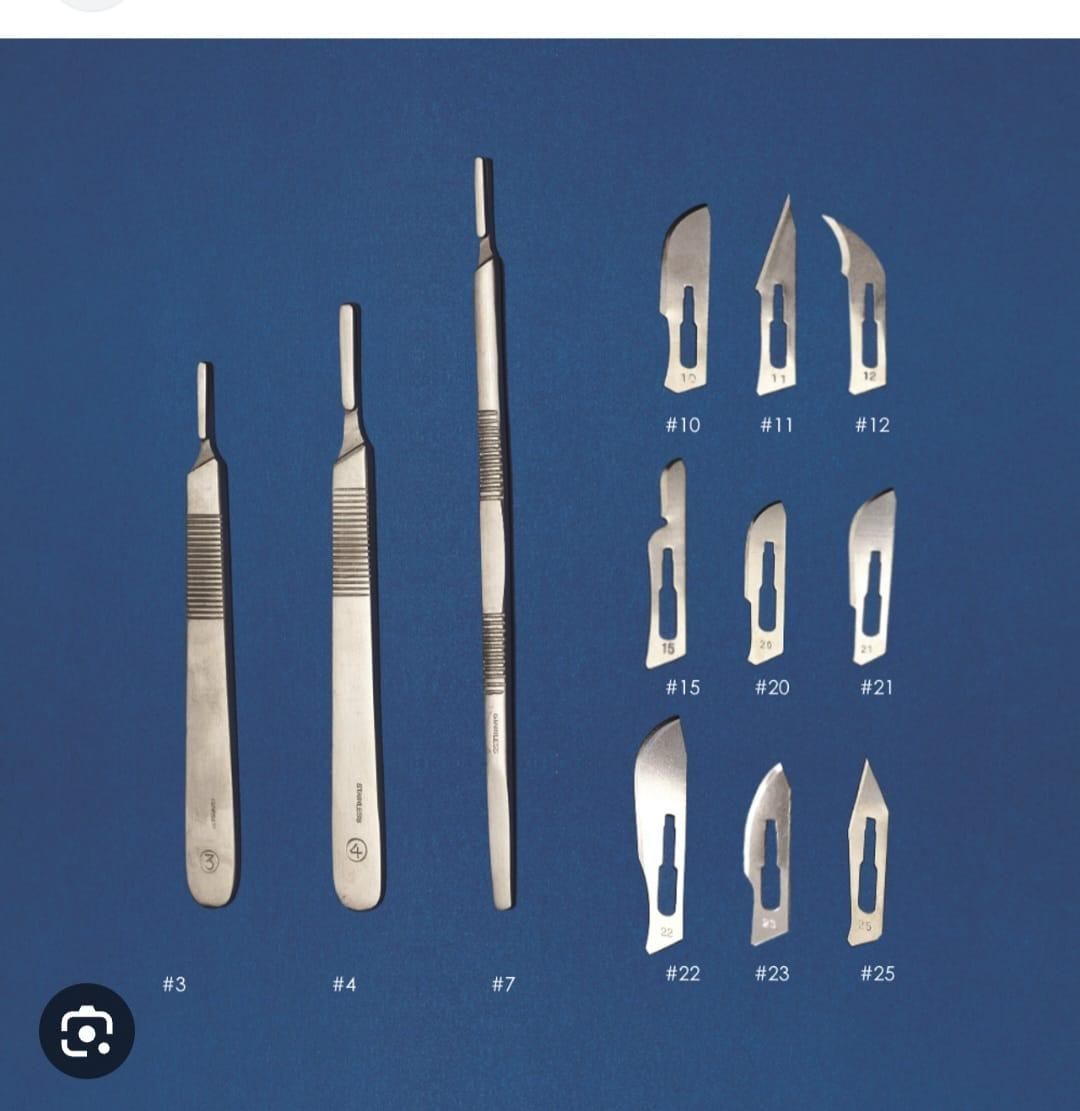Knife Blade: (610, 197, 750, 438), (832, 487, 945, 682), (622, 708, 703, 970), (820, 203, 923, 393), (748, 178, 817, 422), (742, 753, 817, 955), (842, 745, 913, 957), (737, 493, 803, 682)
Knife Handle: (287, 275, 423, 910), (135, 342, 282, 913), (450, 130, 548, 923)
